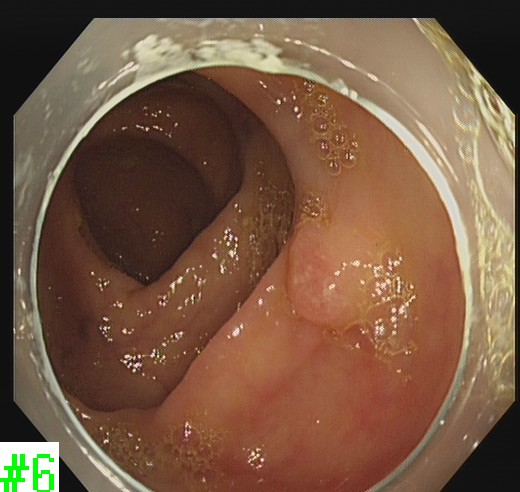adenoma: (281, 216, 387, 331)
